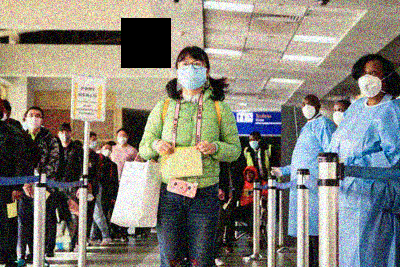with_mask: (177, 58, 208, 91), (359, 66, 383, 99), (26, 113, 44, 130), (302, 101, 317, 121), (333, 108, 347, 127), (57, 130, 72, 143), (117, 133, 129, 147), (250, 138, 261, 150), (102, 147, 112, 158), (89, 138, 98, 150)
without_mask: (246, 172, 254, 182)
